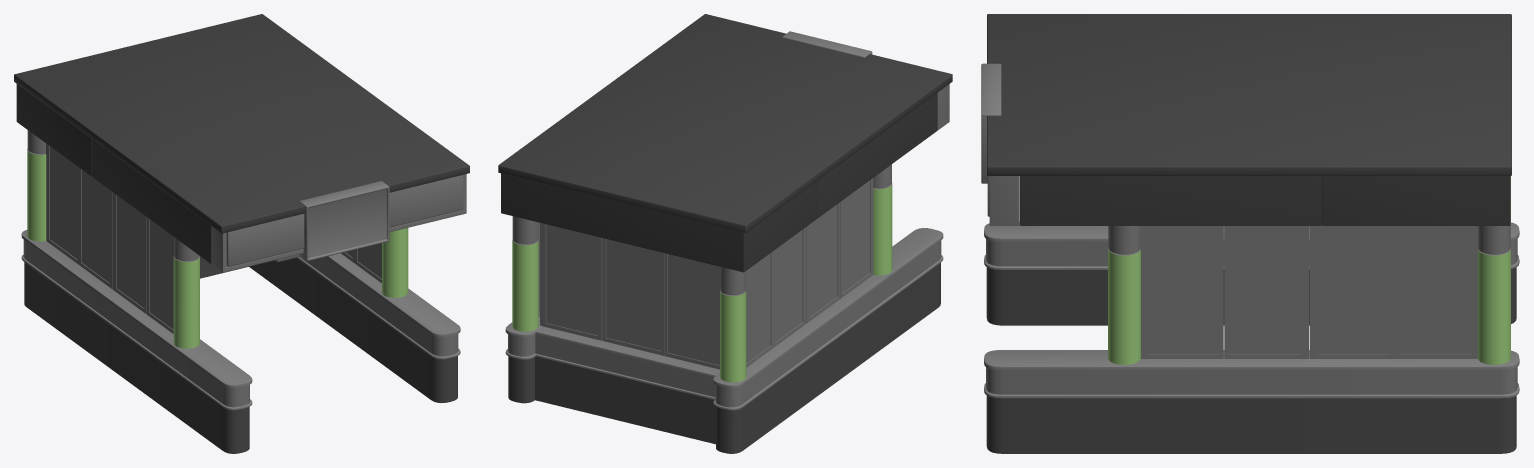
File: SM_entrance_metro.fbx
3 views of the same model, side by side, from view 1: azimuth 30°, elevation 25°; view 2: azimuth 150°, elevation 25°; view 3: azimuth 270°, elevation 25° (orthographic). The views are drawn at different scales.
Parts seen in each view (by area): view 1: Box254; view 2: Box254; view 3: Box254.
Part boxes in pixels (x1,y1,x2,y2): Box254: (14, 14, 469, 453); Box254: (498, 14, 952, 453); Box254: (981, 14, 1519, 453).
Bounding box in the file's own units: 189 × 169 × 281.
